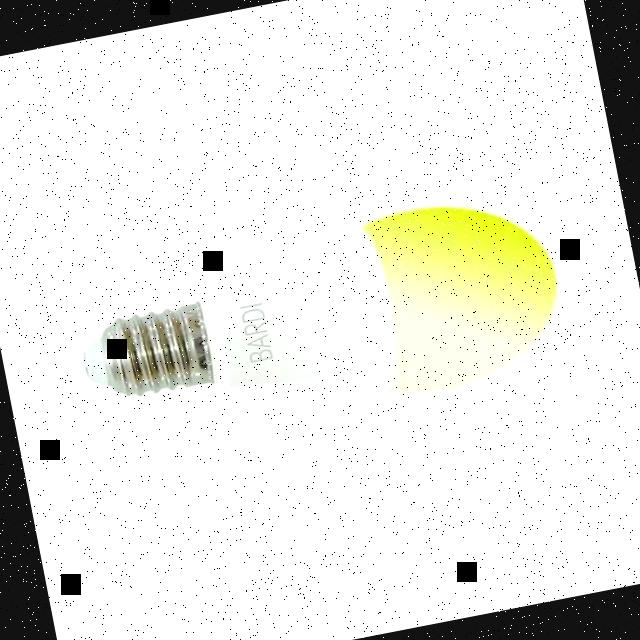light_bulb: (42, 171, 586, 477)
